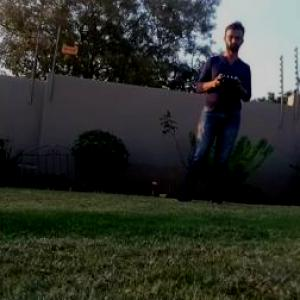follow: (169, 13, 254, 208)
